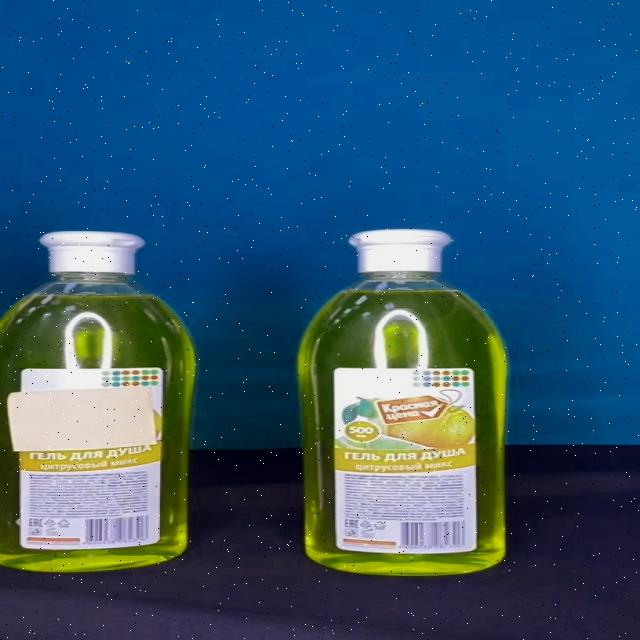Bottle: (295, 228, 508, 576), (0, 231, 198, 572)
Cap: (348, 230, 453, 273), (39, 232, 145, 274)
